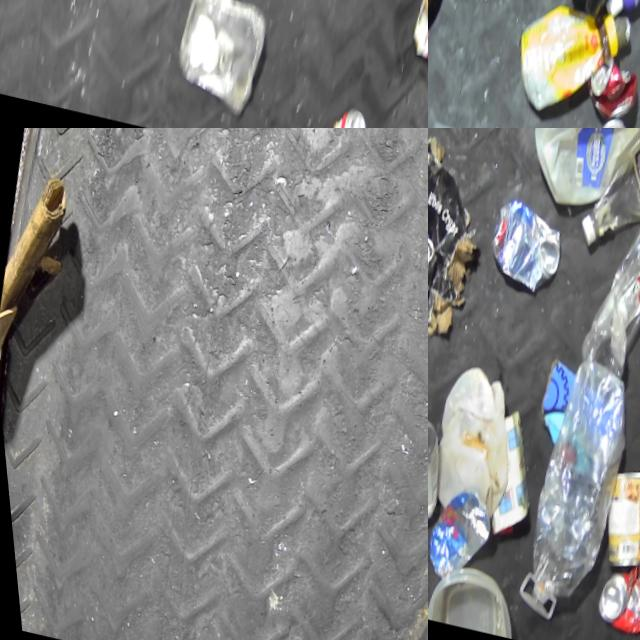can: (472, 193, 569, 297), (428, 476, 491, 584), (582, 461, 640, 570), (577, 553, 640, 635), (575, 49, 640, 122), (428, 410, 447, 520), (302, 98, 359, 128)
milk_jug: (428, 357, 523, 517), (507, 128, 640, 224)
non_white_jug: (499, 0, 637, 127)
plastic_bottle: (492, 350, 640, 619), (559, 196, 640, 373), (561, 128, 640, 263)
